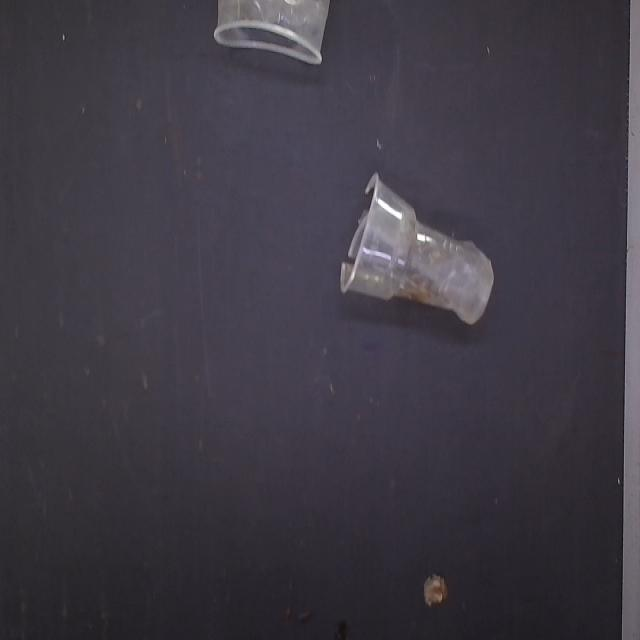plastic_cups: (334, 162, 498, 348), (215, 0, 336, 72)
